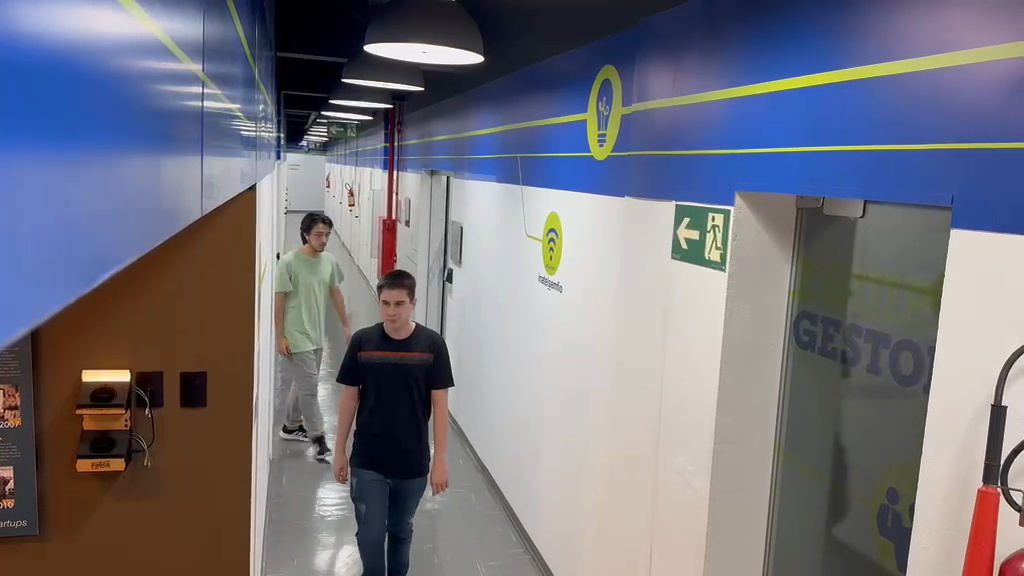person: (333, 269, 455, 573), (275, 211, 351, 463)
